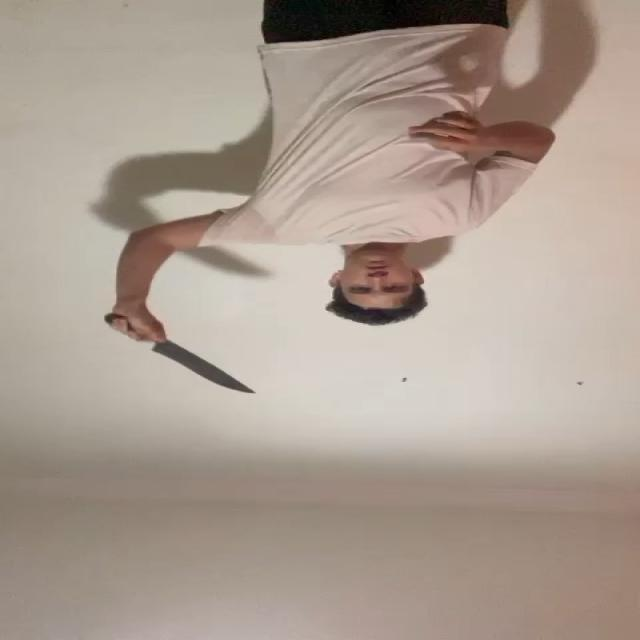knife: (151, 346, 258, 394)
